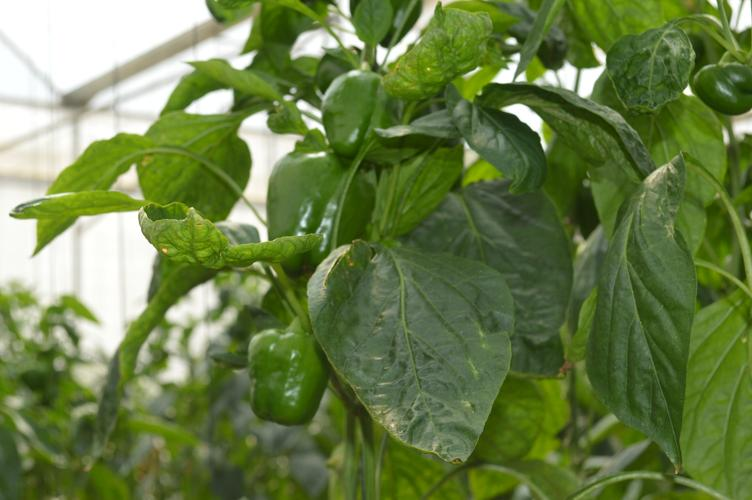BellPepper: (263, 157, 372, 269), (244, 329, 326, 422), (321, 73, 393, 156), (691, 65, 748, 119)
